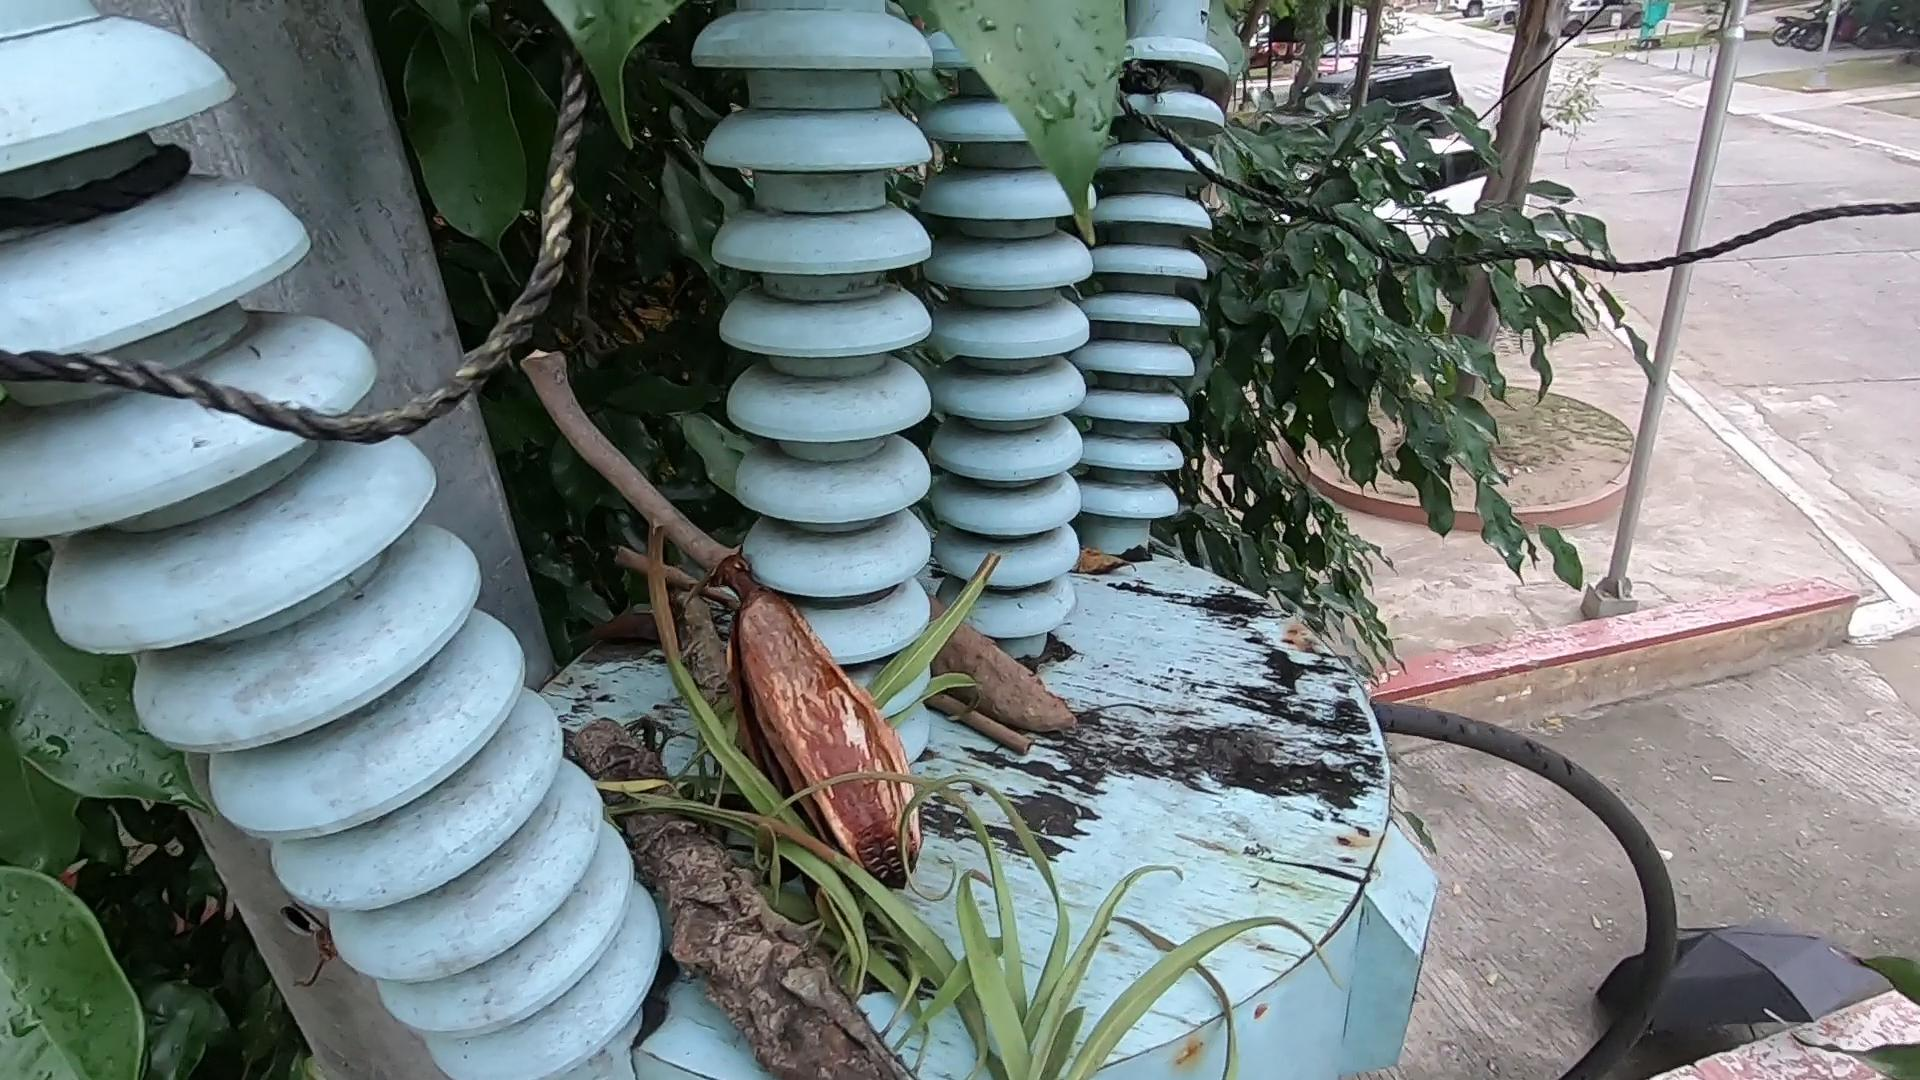branch with leaves: (574, 642, 1167, 1080)
leaf: (1079, 524, 1149, 628)
mahogany fruit: (918, 574, 1106, 753), (949, 735, 953, 736)
tree branch: (607, 535, 1054, 774), (508, 330, 779, 589), (735, 585, 926, 872)
